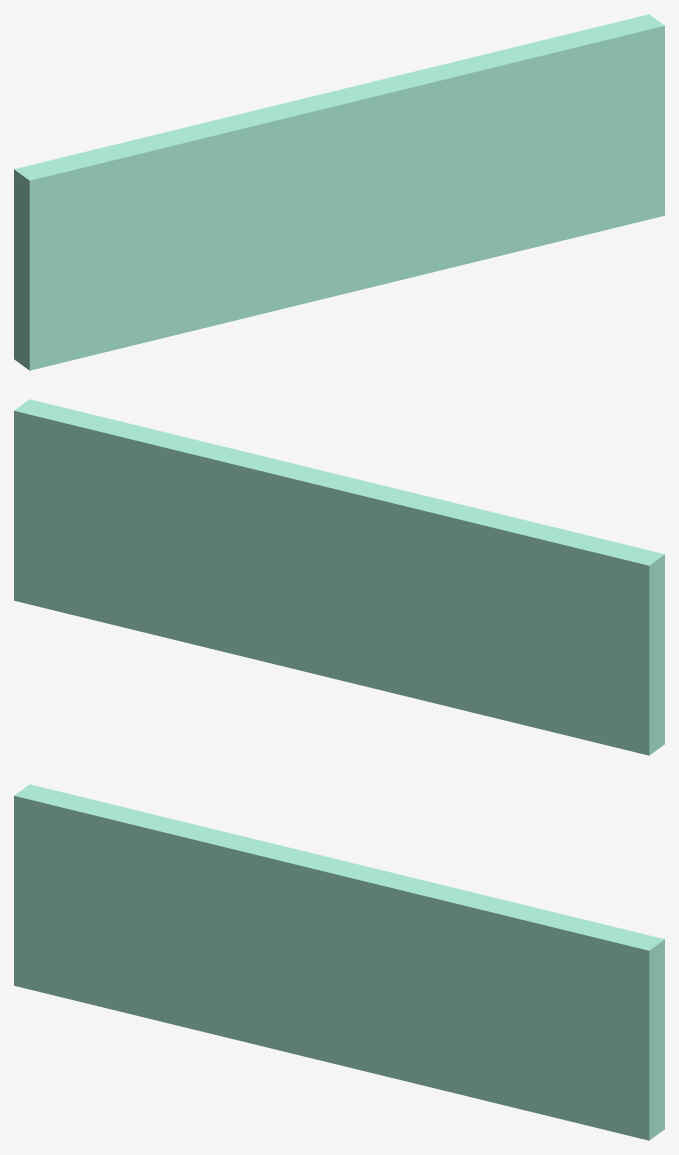
Rendered from tool_6-Group_29.gltf.
The picture shows the model from 3 angles, top to bottom: view 1: azimuth 30°, elevation 25°; view 2: azimuth 150°, elevation 25°; view 3: azimuth 330°, elevation 25°; orthographic projection.
Parts seen in each view (by area): view 1: <组件#29>_7, <组件#29>_6, <组件#29>_9, <组件#29>_1, <组件#29>_2, <组件#29>, <组件#29>_3, <组件#29>_5, <组件#29>_8, <组件#29>_4; view 2: <组件#29>_7, <组件#29>_6, <组件#29>_9, <组件#29>_1, <组件#29>_2, <组件#29>, <组件#29>_3, <组件#29>_5, <组件#29>_8, <组件#29>_4; view 3: <组件#29>_7, <组件#29>_6, <组件#29>_9, <组件#29>_1, <组件#29>_2, <组件#29>, <组件#29>_3, <组件#29>_5, <组件#29>_8, <组件#29>_4.
Part boxes in pixels (<box>): <组件#29>_7: <box>14,14,664,199</box>; <组件#29>_6: <box>14,178,664,351</box>; <组件#29>_9: <box>14,197,664,370</box>; <组件#29>_1: <box>14,102,664,275</box>; <组件#29>_2: <box>14,83,664,256</box>; <组件#29>: <box>14,159,664,332</box>; <组件#29>_3: <box>14,121,664,294</box>; <组件#29>_5: <box>14,64,664,237</box>; <组件#29>_8: <box>14,140,664,313</box>; <组件#29>_4: <box>14,45,664,218</box>; <组件#29>_7: <box>14,399,664,584</box>; <组件#29>_6: <box>14,563,664,736</box>; <组件#29>_9: <box>14,582,664,755</box>; <组件#29>_1: <box>14,487,664,660</box>; <组件#29>_2: <box>14,468,664,641</box>; <组件#29>: <box>14,544,664,717</box>; <组件#29>_3: <box>14,506,664,679</box>; <组件#29>_5: <box>14,449,664,622</box>; <组件#29>_8: <box>14,525,664,698</box>; <组件#29>_4: <box>14,430,664,603</box>; <组件#29>_7: <box>14,784,664,969</box>; <组件#29>_6: <box>14,948,664,1121</box>; <组件#29>_9: <box>14,967,664,1140</box>; <组件#29>_1: <box>14,872,664,1045</box>; <组件#29>_2: <box>14,853,664,1026</box>; <组件#29>: <box>14,929,664,1102</box>; <组件#29>_3: <box>14,891,664,1064</box>; <组件#29>_5: <box>14,834,664,1007</box>; <组件#29>_8: <box>14,910,664,1083</box>; <组件#29>_4: <box>14,815,664,988</box>.
Bounding box in the file's own units: 110 × 31.5 × 4.72.
